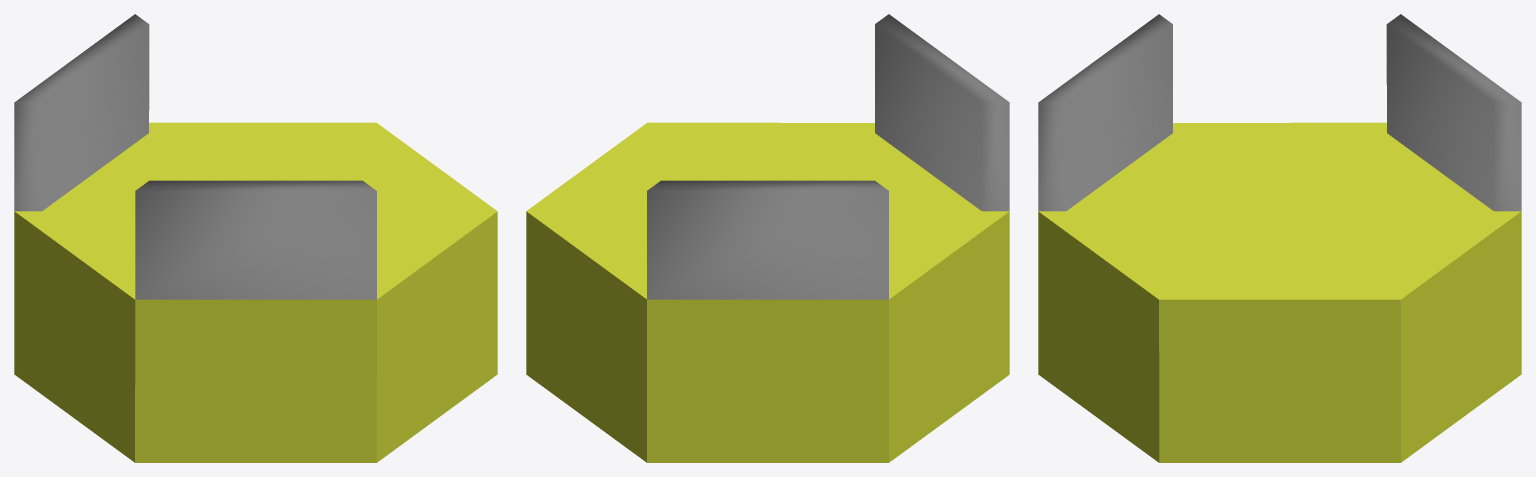
Rendered from NormalTile2-1WallStage2.fbx.
3 renders of one model, left to right at view 1: azimuth 30°, elevation 25°; view 2: azimuth 150°, elevation 25°; view 3: azimuth 270°, elevation 25°, orthographic.
Parts seen in each view (by area): view 1: NormalTile2-1Wall_2Stage2; view 2: NormalTile2-1Wall_2Stage2; view 3: NormalTile2-1Wall_2Stage2.
Part boxes in pixels (<box>): NormalTile2-1Wall_2Stage2: <box>14,14,497,462</box>; NormalTile2-1Wall_2Stage2: <box>526,14,1009,462</box>; NormalTile2-1Wall_2Stage2: <box>1038,14,1521,462</box>.
Size of the model in its own units: 173 by 124 by 200.
